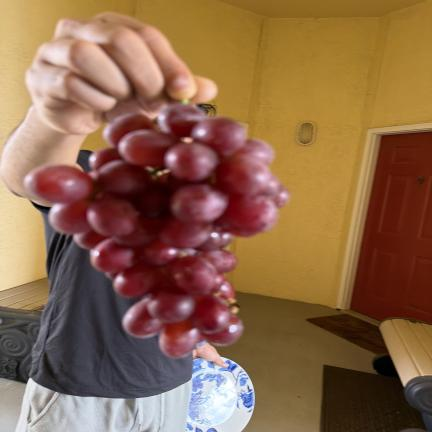grape_cluster: (24, 99, 289, 358)
